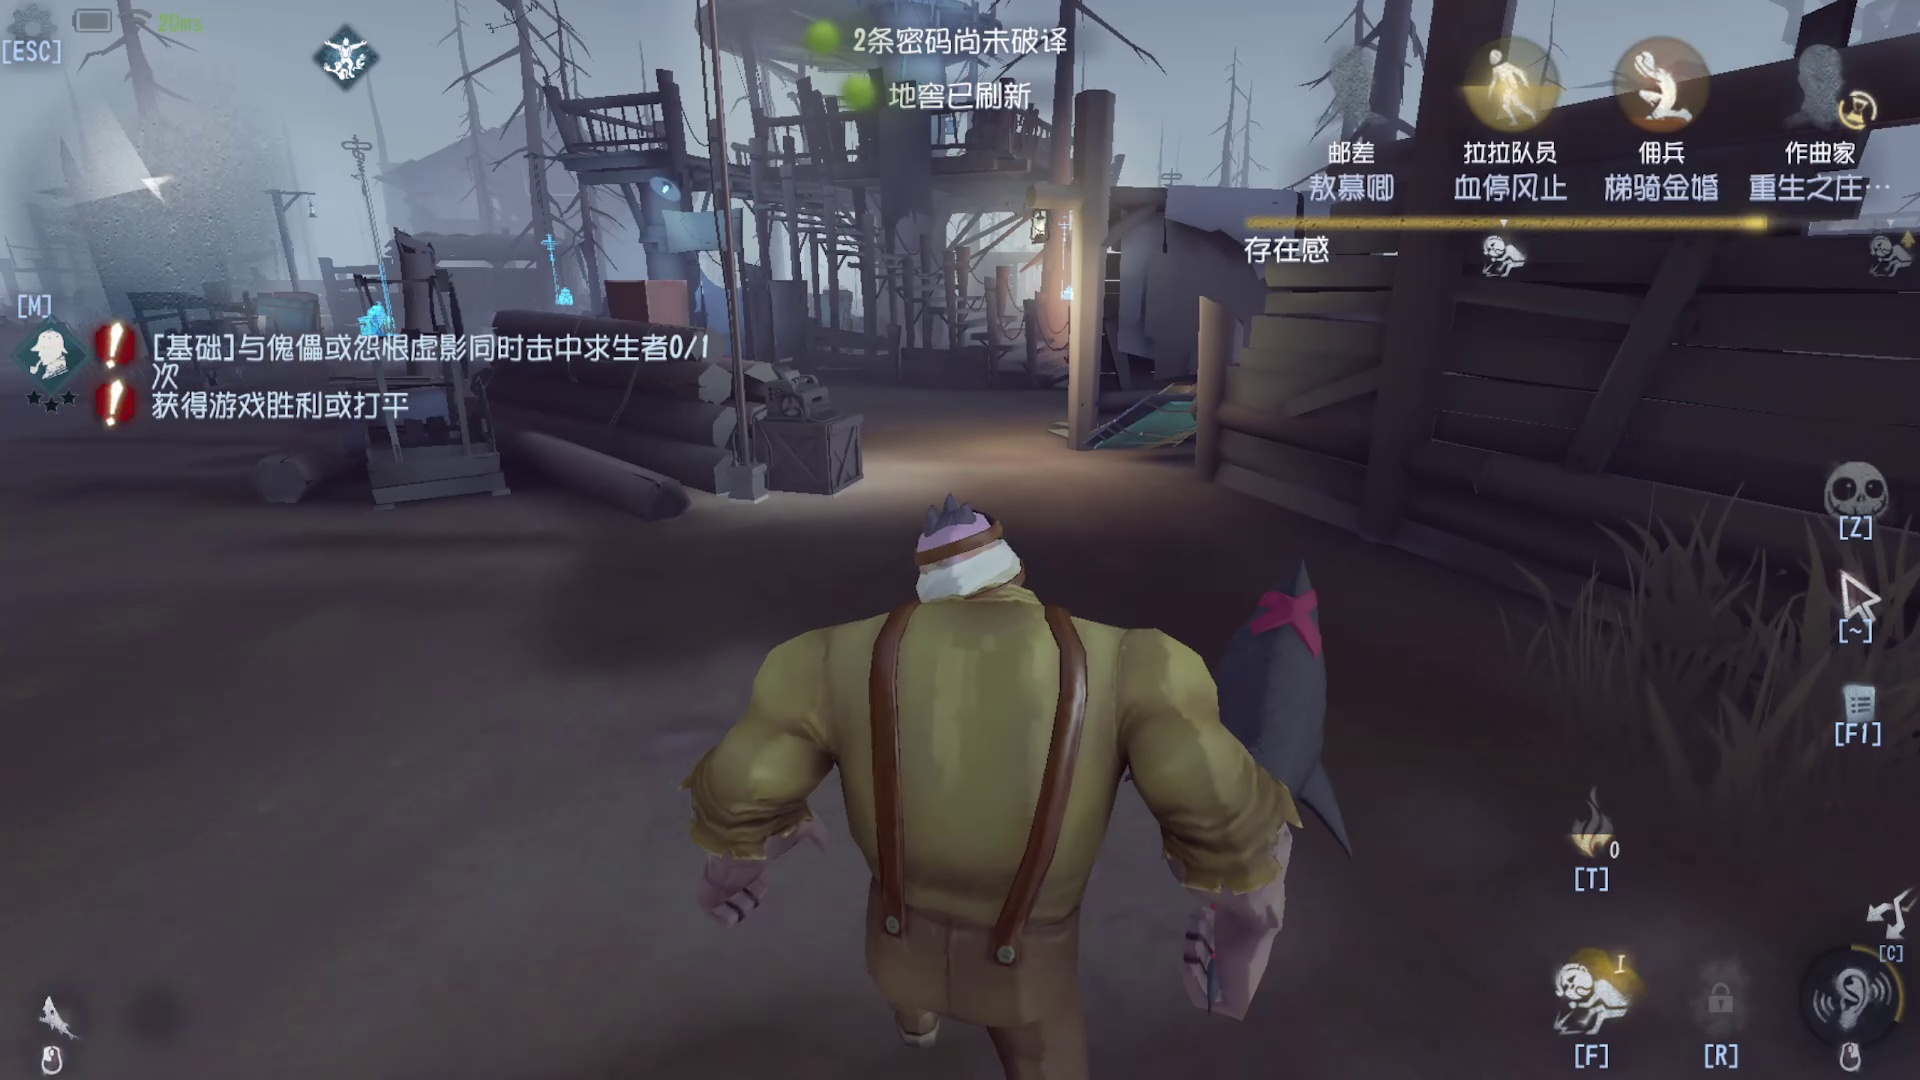密码机: (311, 121, 423, 363), (524, 215, 591, 334)
木板: (1050, 369, 1226, 488)
